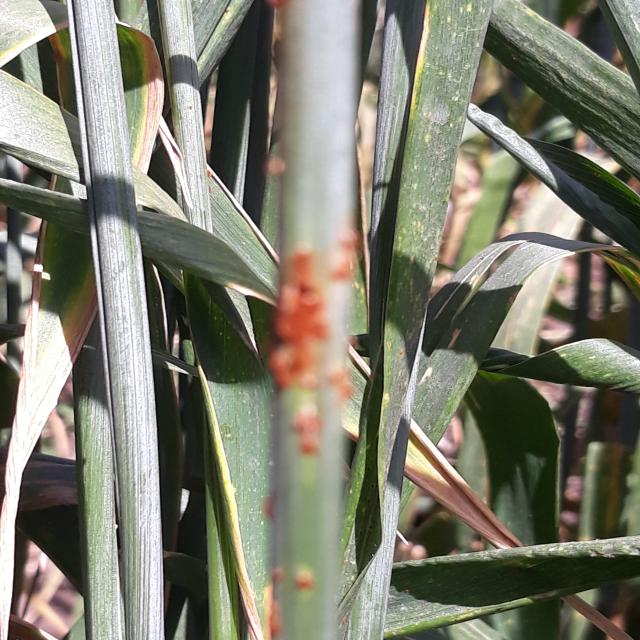black_stem_rust: (225, 3, 461, 640)
